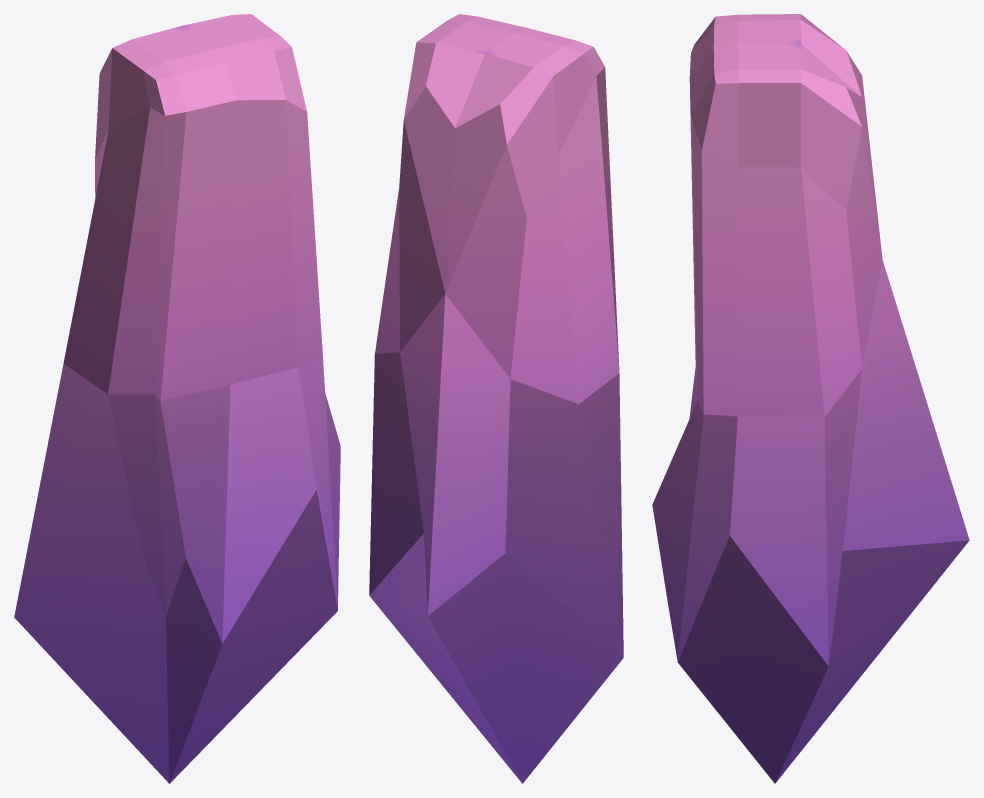
The model's file is Terrain_2.FBX.
The picture shows the model from 3 angles, left to right: view 1: azimuth 30°, elevation 25°; view 2: azimuth 150°, elevation 25°; view 3: azimuth 270°, elevation 25°; orthographic projection. The views are drawn at different scales.
Parts seen in each view (by area): view 1: Object002; view 2: Object002; view 3: Object002.
Boxes of the visible parts, left/top/right/bottom form: Object002: left=14, top=14, right=340, bottom=783; Object002: left=369, top=14, right=623, bottom=783; Object002: left=652, top=14, right=969, bottom=783.
Size of the model in its own units: 1678 by 4285 by 1636.
1 material, 1 textured.
